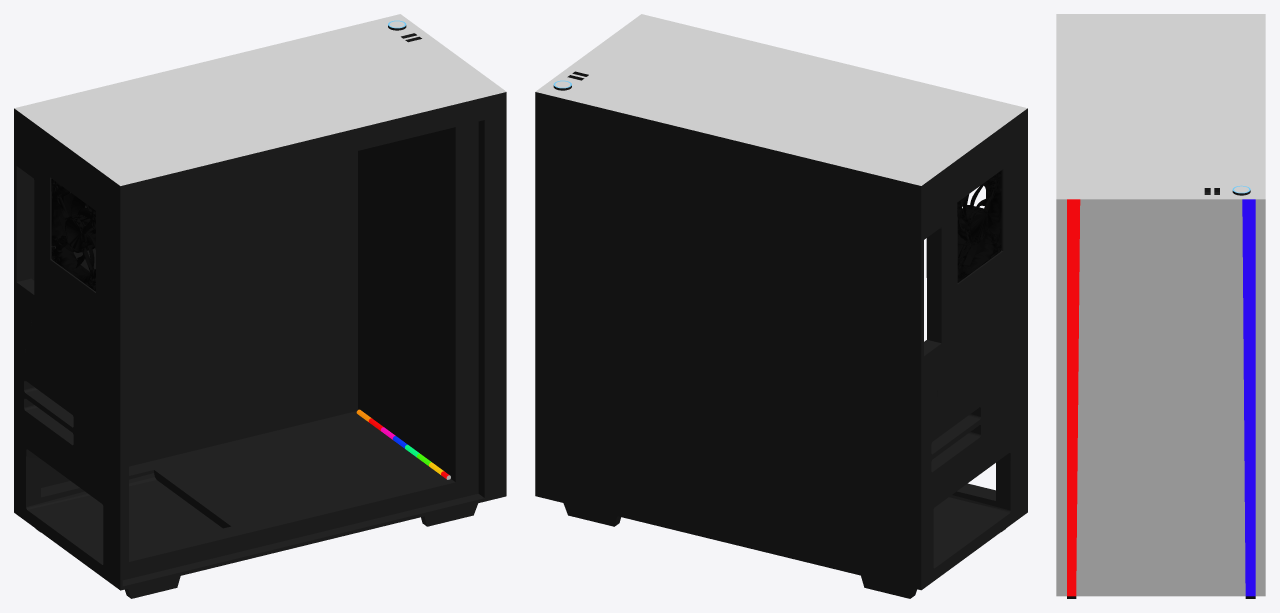
The model's file is case.gltf.
3 views of the same model, side by side, from view 1: azimuth 30°, elevation 25°; view 2: azimuth 150°, elevation 25°; view 3: azimuth 270°, elevation 25° (orthographic).
Parts seen in each view (by area): view 1: case, case fan, Cylinder.004; view 2: case, case fan; view 3: case 1, case.
Part boxes in pixels (left/top/right/bottom): case: left=14, top=14, right=506, bottom=598; case fan: left=51, top=179, right=95, bottom=291; Cylinder.004: left=356, top=409, right=450, bottom=479; case: left=535, top=14, right=1027, bottom=598; case fan: left=957, top=170, right=1001, bottom=282; case 1: left=1056, top=199, right=1265, bottom=596; case: left=1056, top=14, right=1265, bottom=598.
Size of the model in its own units: 4.53 by 4.73 by 2.16.
